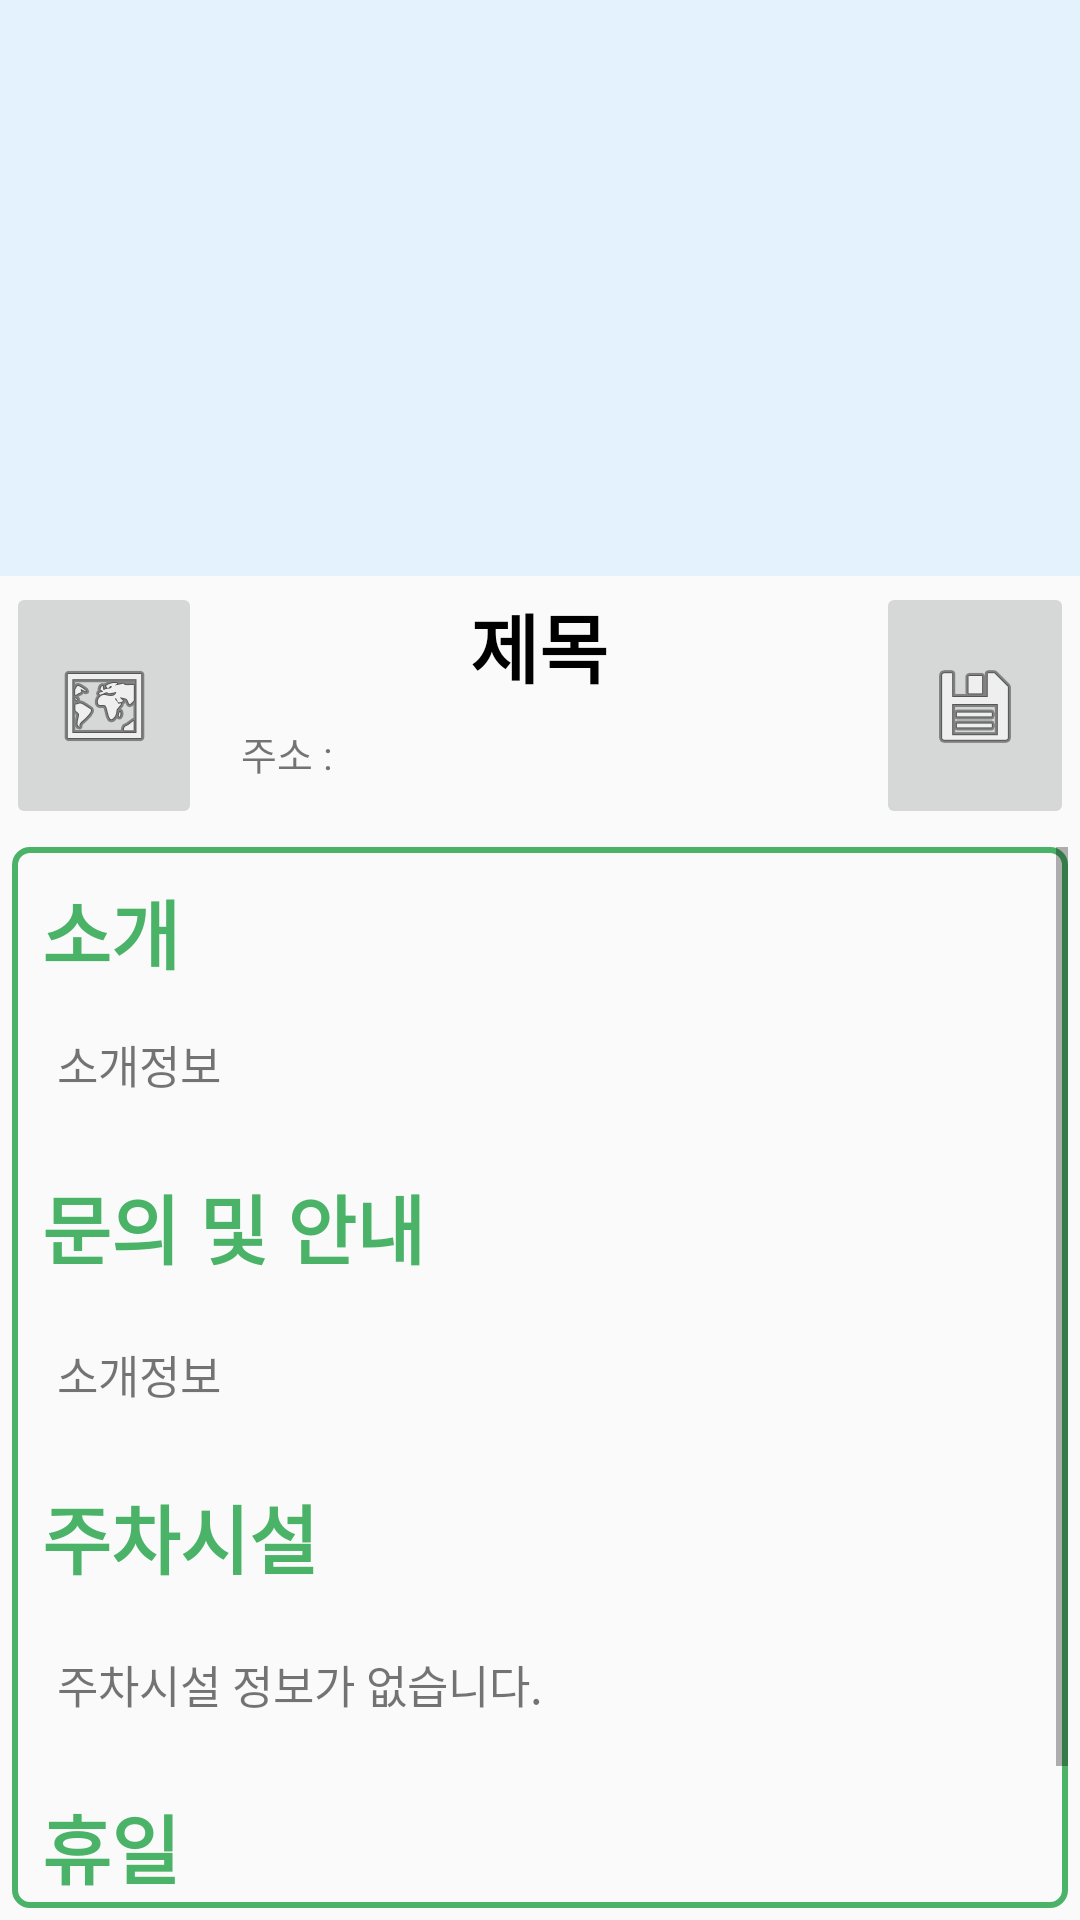

Screen size 1080w x 1920h. Icon name, then its box in pixels as (x1=x1, y1=y1, x2=x2, y2=y2):
mapmode: (x1=18, y1=600, x2=190, y2=811)
save: (x1=888, y1=600, x2=1062, y2=811)
